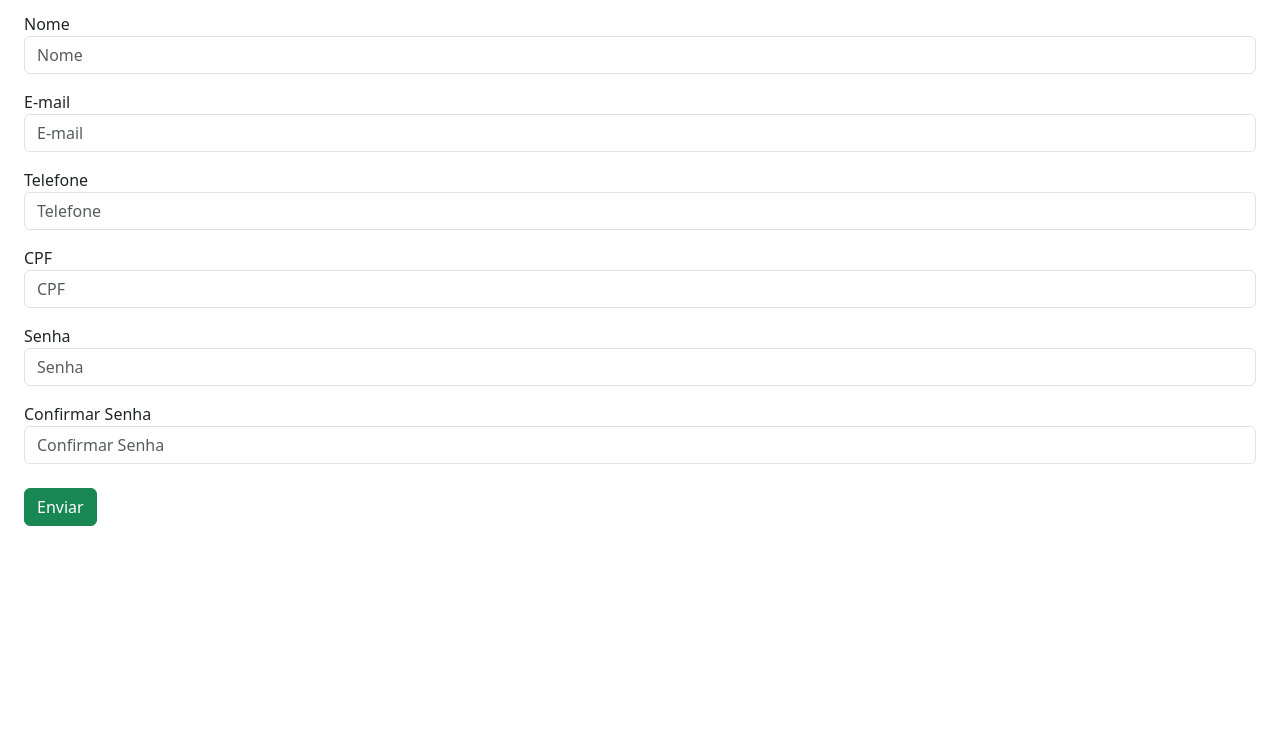
Test: register user › should show error when name has less than 3 characters
In the field with test id "name": (640,55) [24, 36, 1256, 74], type "Us"
In the field with test id "email": (640,133) [24, 114, 1256, 152], type "usuario@teste.com"
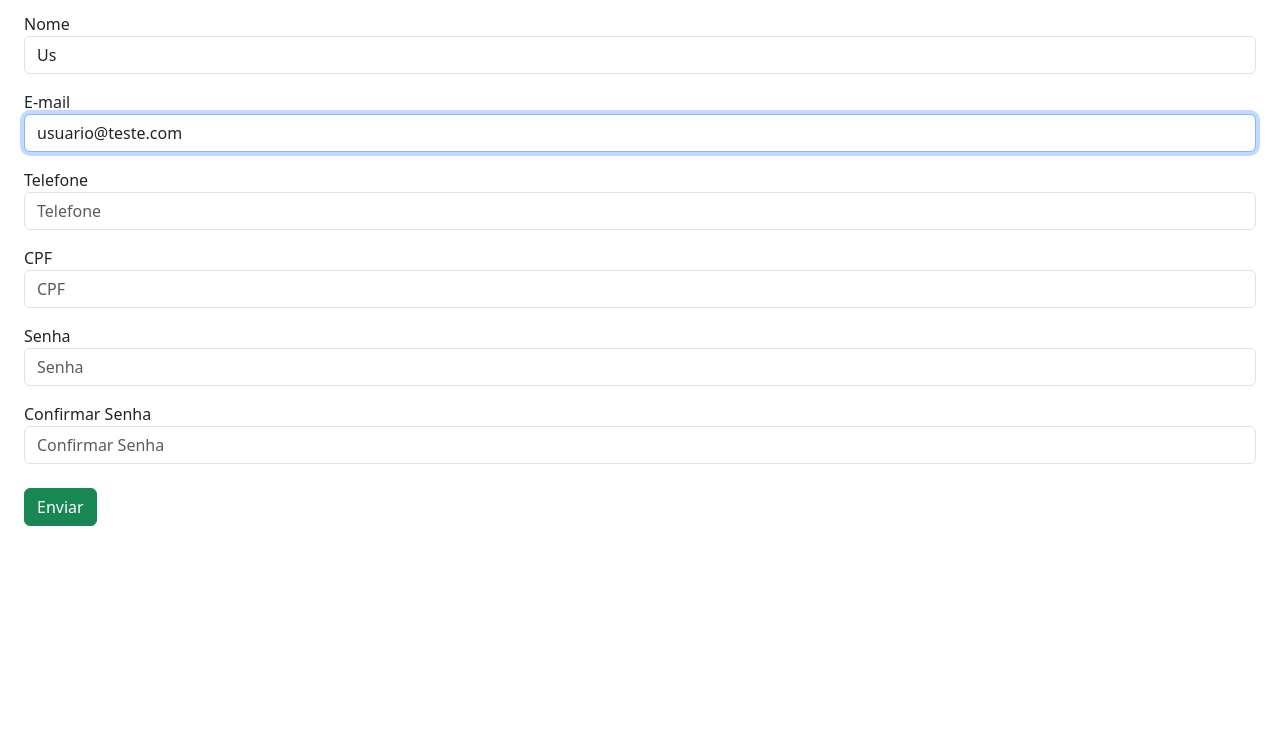
In the field with test id "phone": (640,211) [24, 192, 1256, 230], type "85924117820"
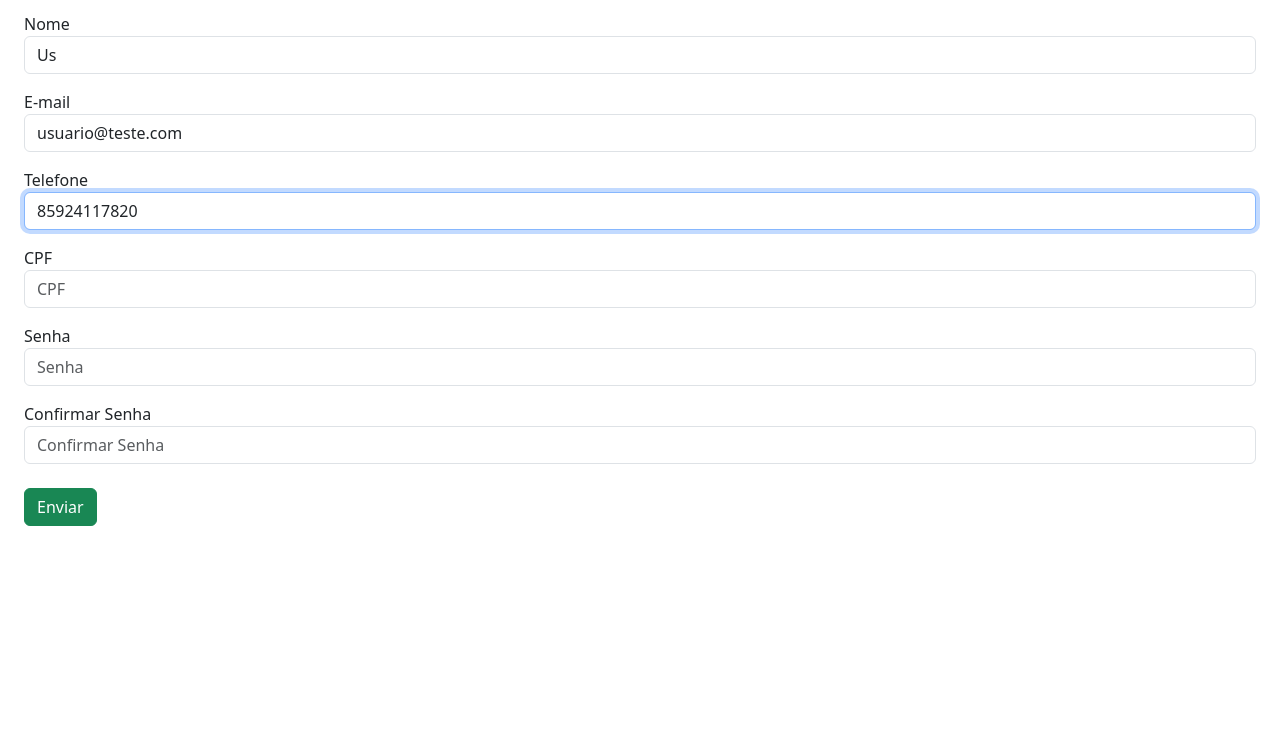
In the field with test id "identifier": (640,289) [24, 270, 1256, 308], type "54544140005"
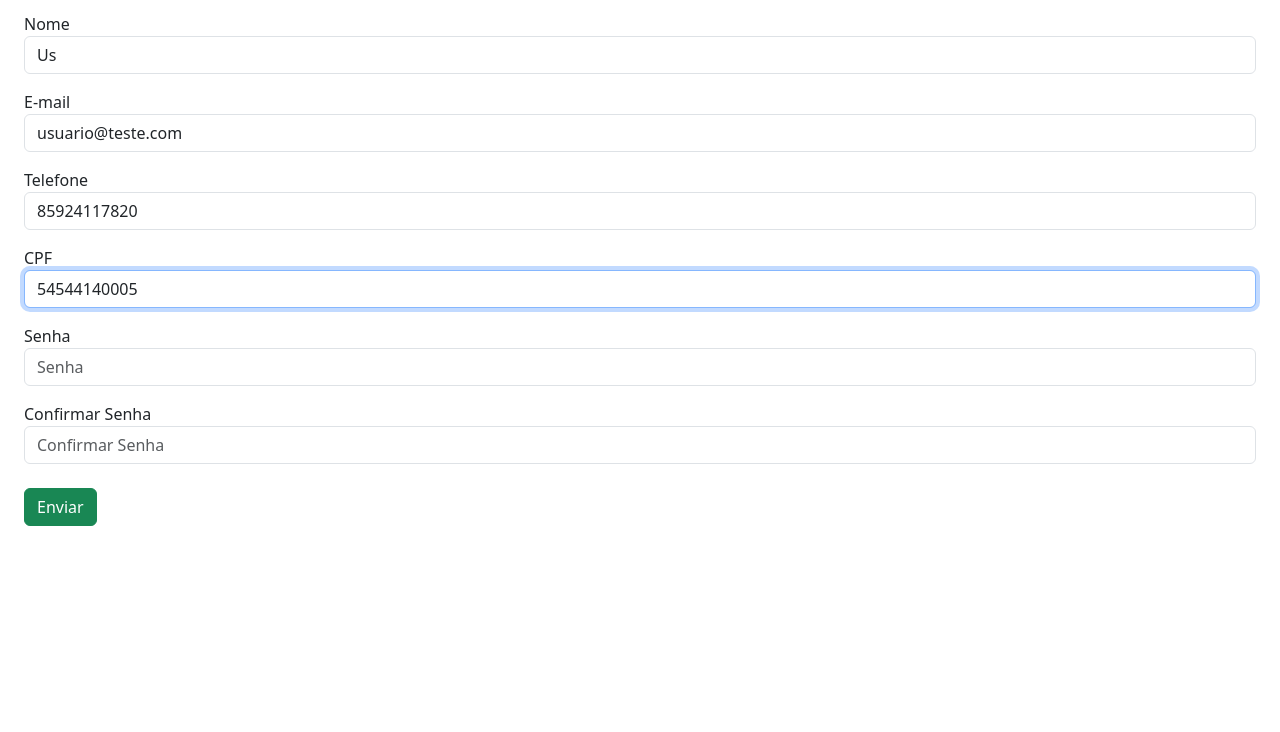
In the password field with test id "password": (640,367) [24, 348, 1256, 386], type "senha123"
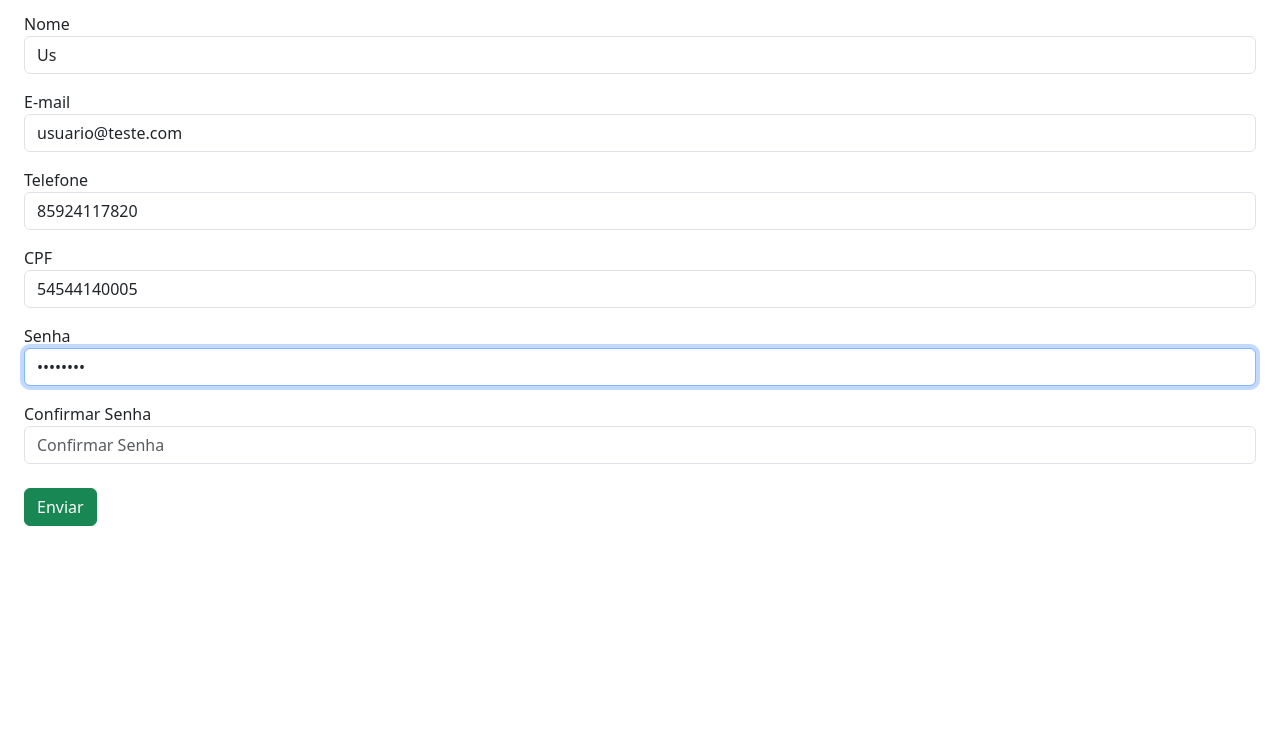
In the password field with test id "confirmPassword": (640,445) [24, 426, 1256, 464], type "senha123"
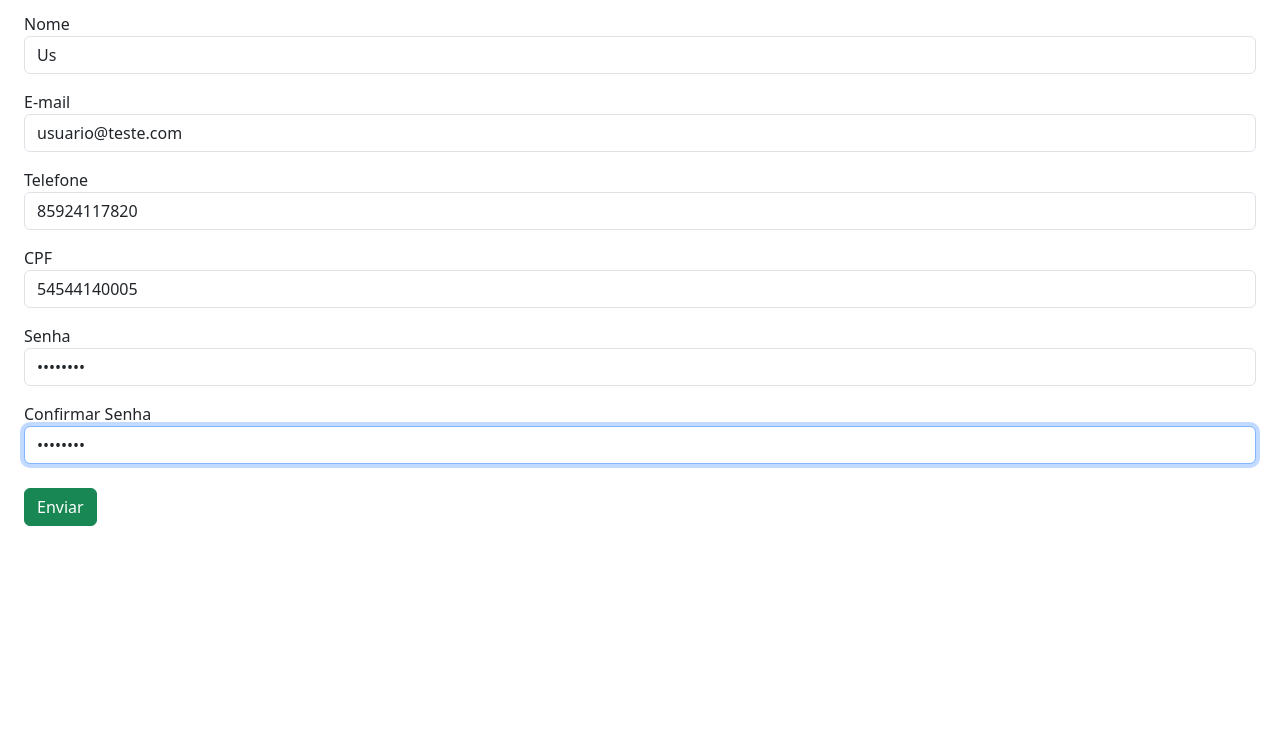
Submit the form
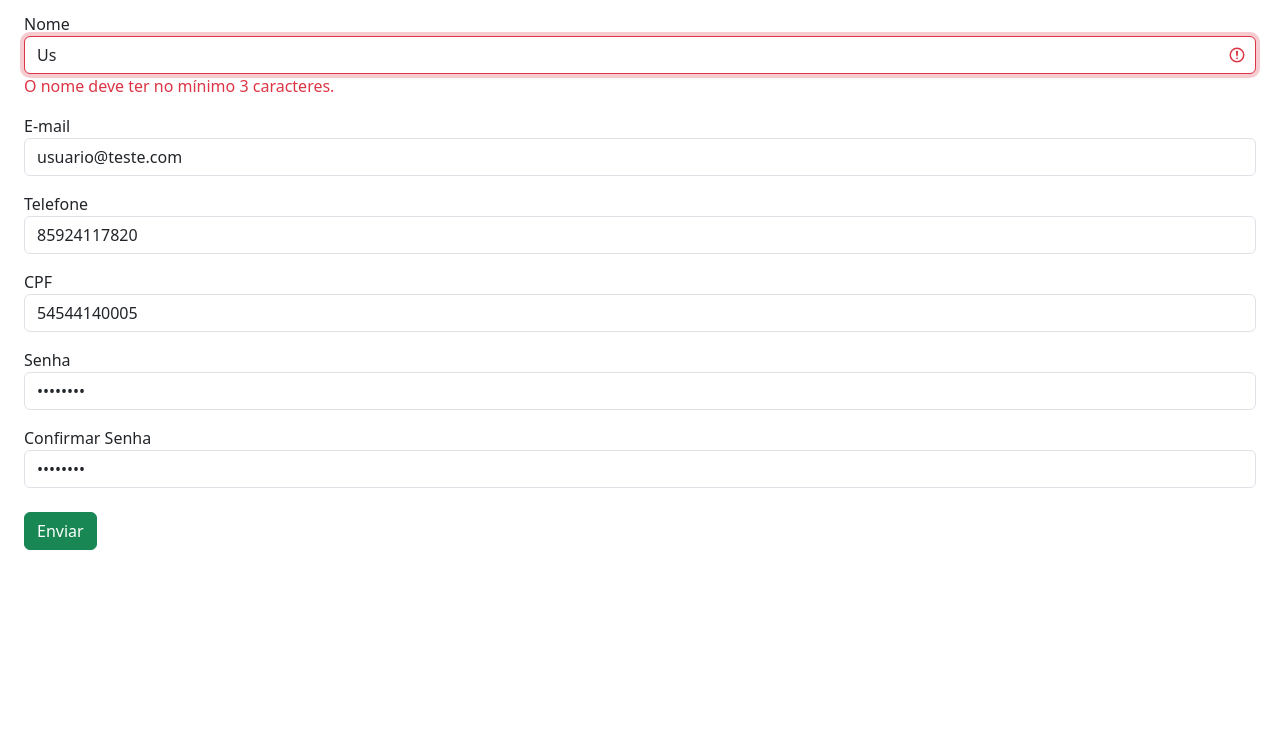
Result: the text with test id "name-error" reads "O nome deve ter no mínimo 3 caracteres." at [24, 75, 334, 97]
